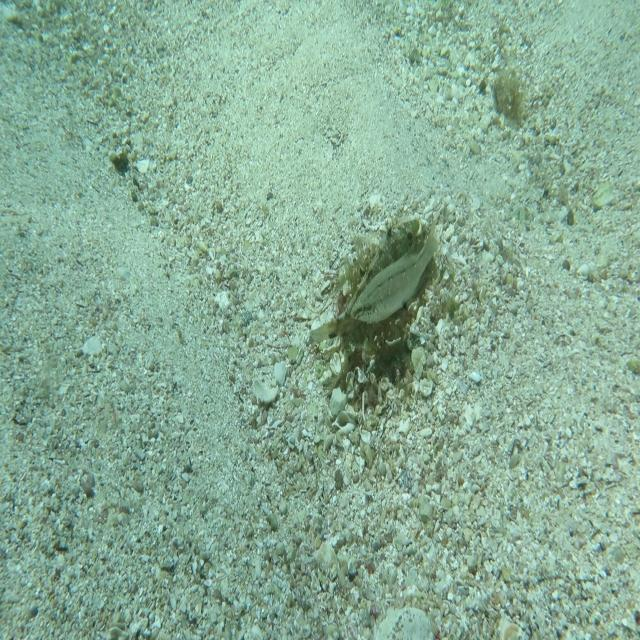LF: (306, 217, 421, 347)
female: (349, 215, 442, 327)
nest: (329, 209, 449, 408)
vegetation: (490, 68, 526, 125), (109, 149, 130, 176)
